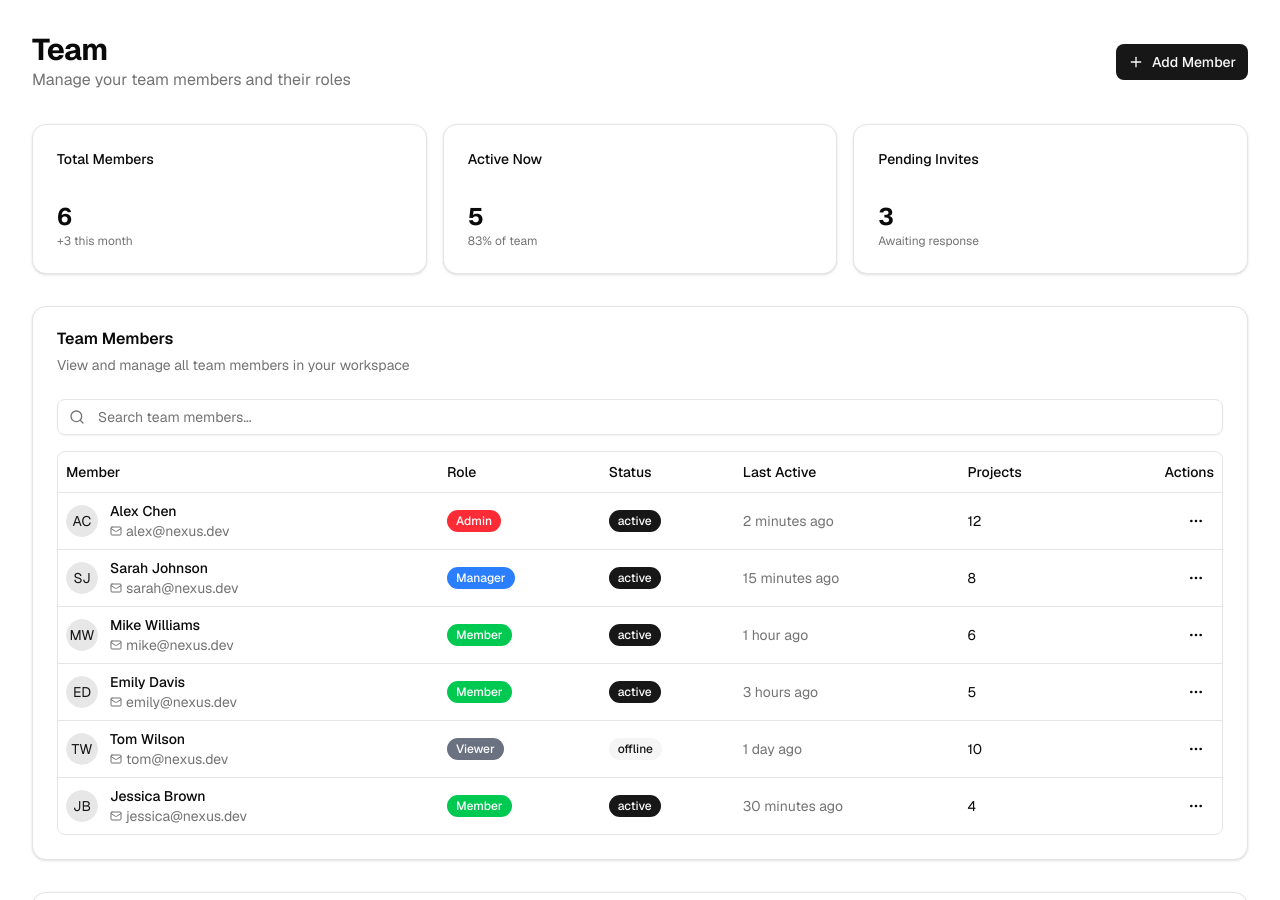
TeamPage › validates form and shows errors
# Open dialog
Click the button "Add Member" at (1182, 62), box [1116,44,1248,80]
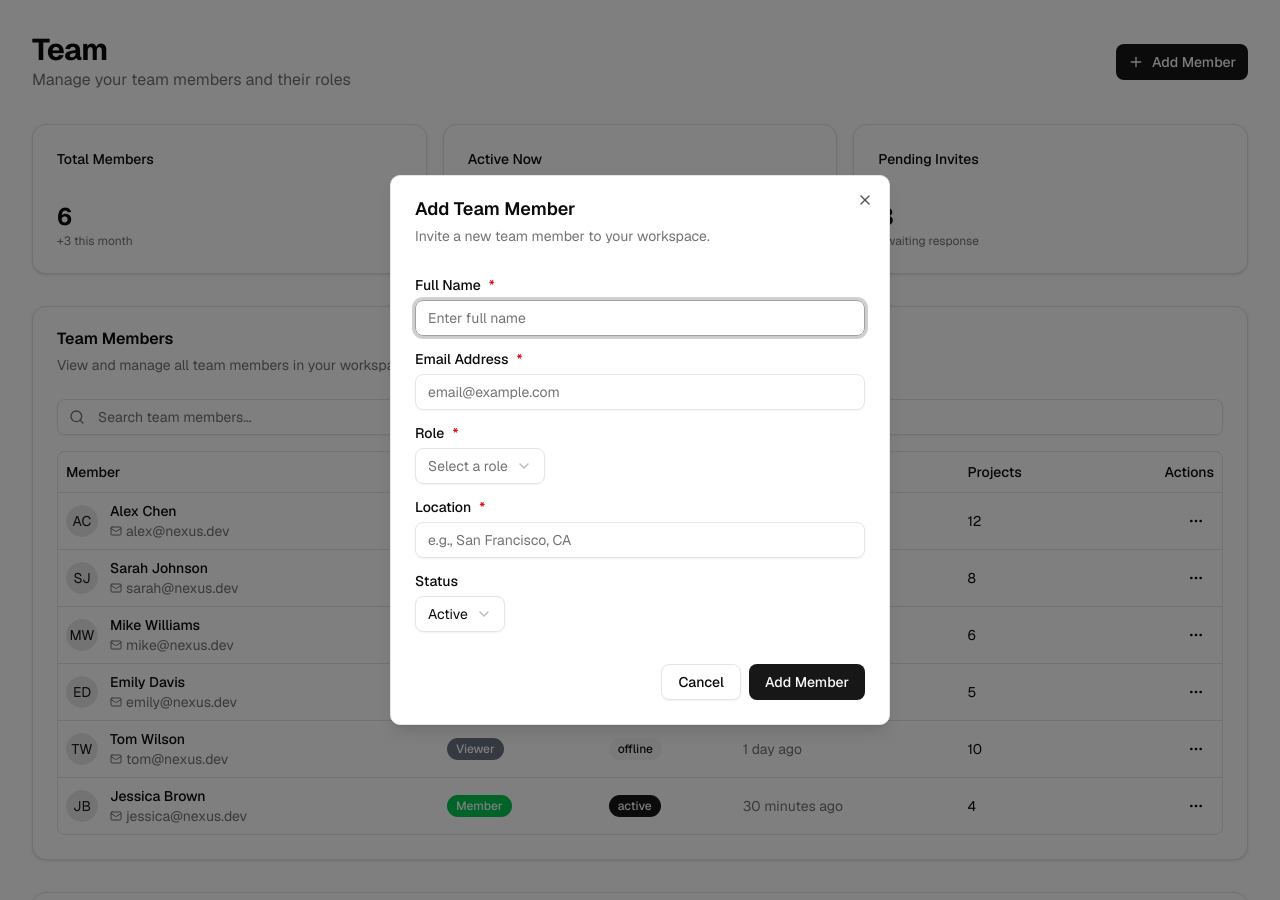
# Try to submit empty form
Click the button "Add Member" at (807, 682), box [749,664,865,700]
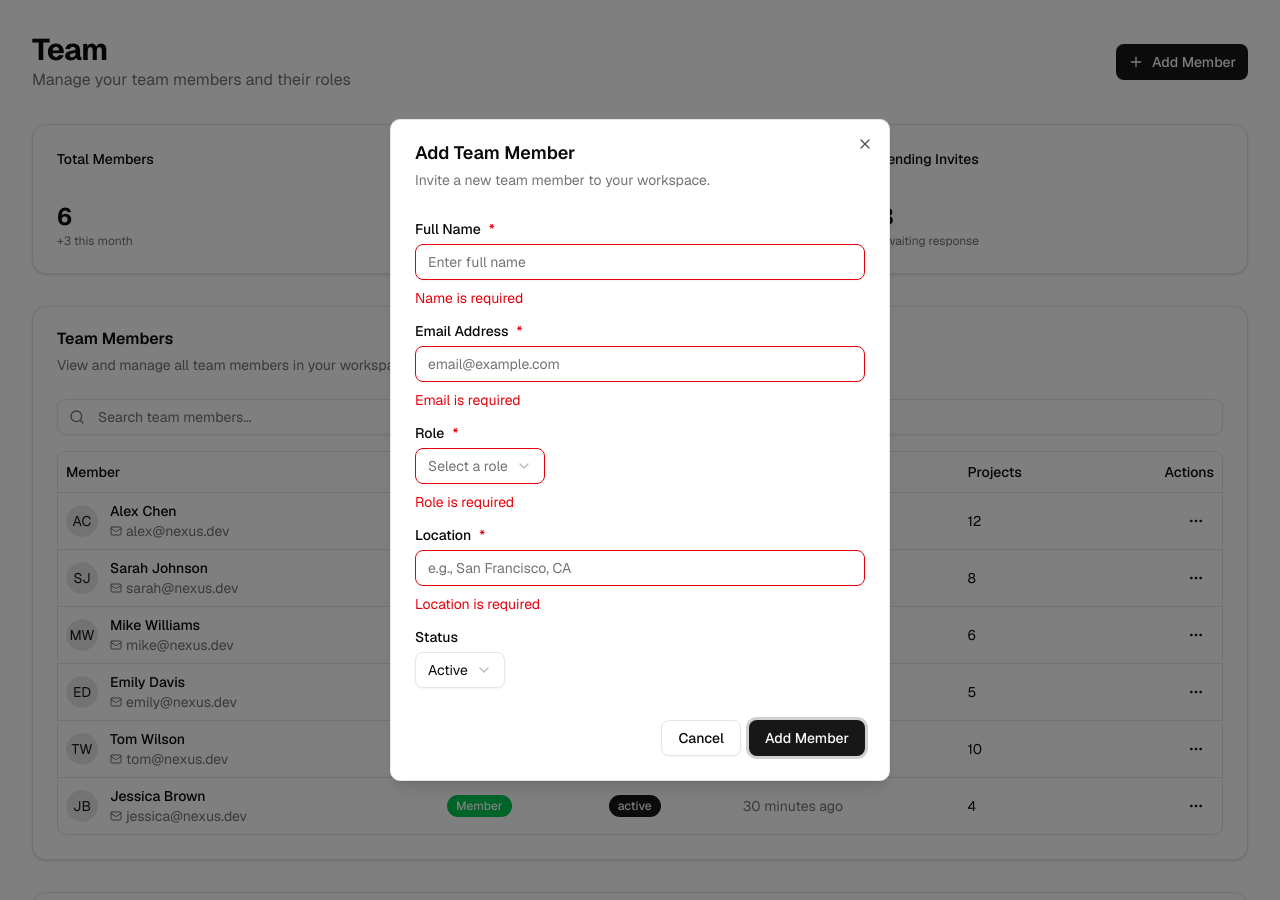
Expected: the text "Name is required" is shown, [415,289,523,307]
Expected: the text "Email is required" is shown, [415,391,521,409]
